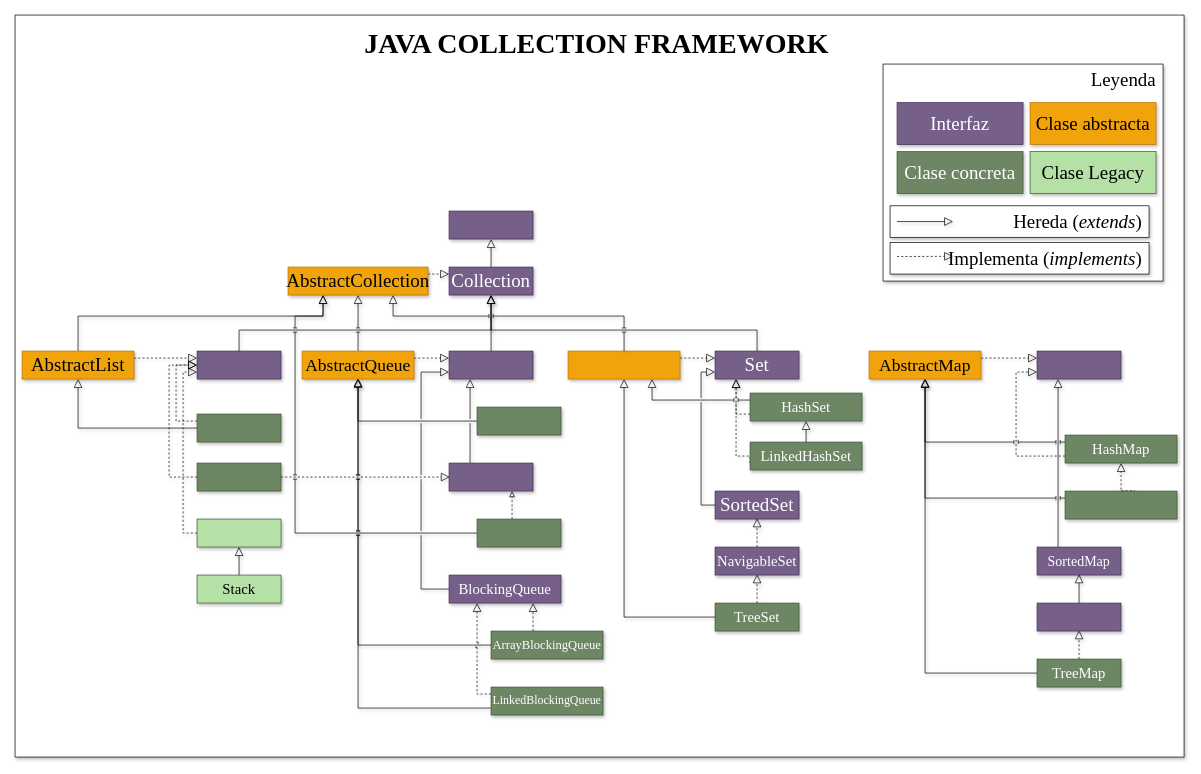
This 1201x774 diagram has some shape labels left out. The centre of each missing label's shape, as x and y in pixels:
"AbstractSet" belongs at [624,366].
"ArrayDeque" belongs at [519,534].
"ArrayList" belongs at [239,429].
"Deque" belongs at [491,478].
"Iterable" belongs at [491,226].
"LinkedHashMap" belongs at [1121,506].
"LinkedList" belongs at [239,478].
"List" belongs at [239,366].
"Map" belongs at [1079,366].
"NavigableMap" belongs at [1079,618].
"PriorityQueue" belongs at [519,422].
"Queue" belongs at [491,366].
"Vector" belongs at [239,534].
